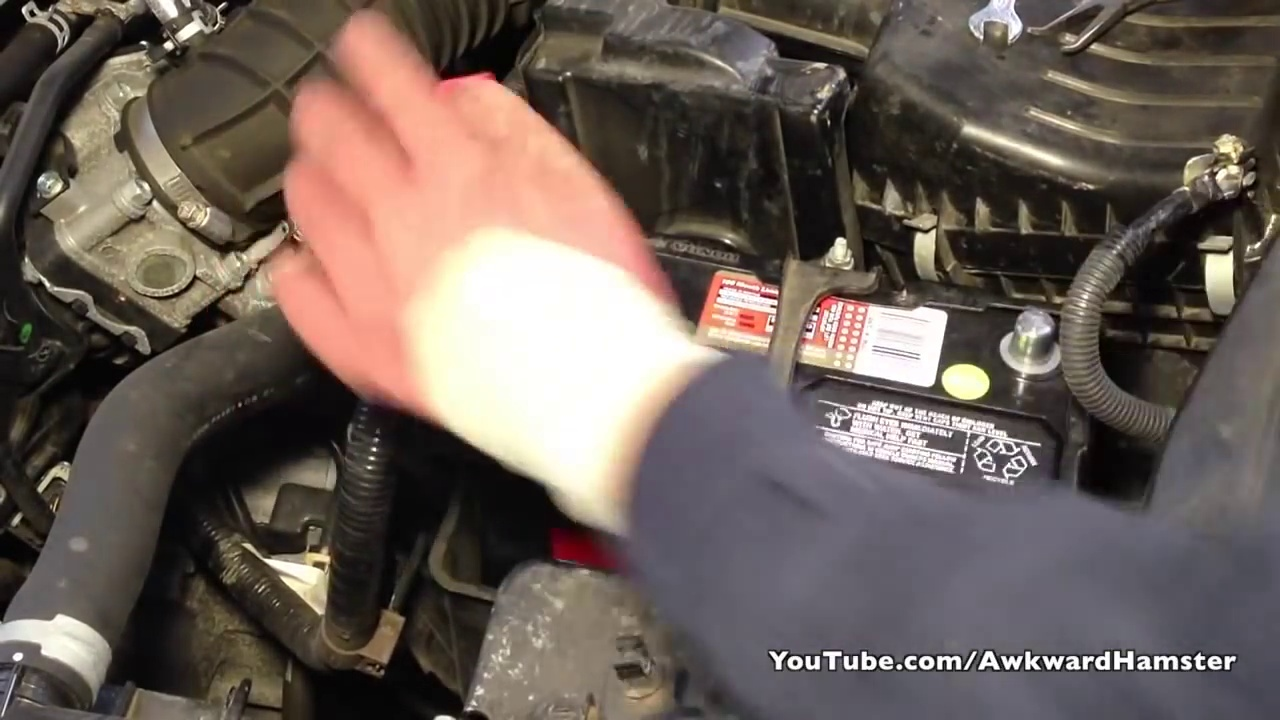battery: (660, 218, 1086, 488)
